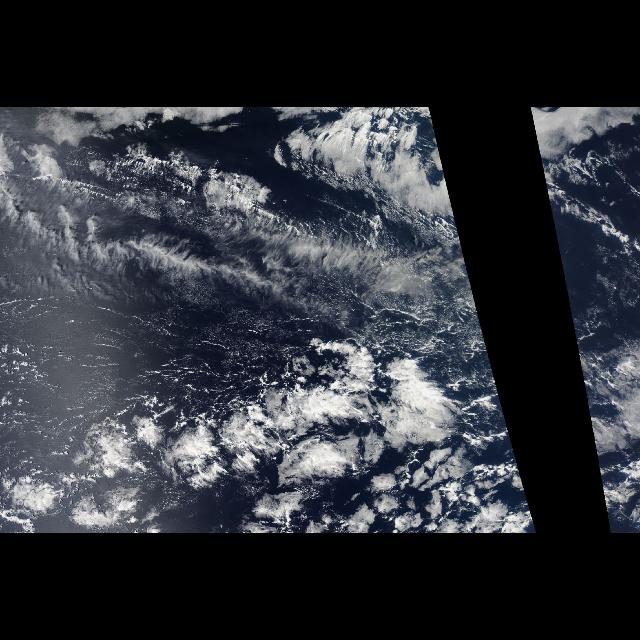Fish: (34, 134, 456, 360)
Flower: (62, 353, 538, 533)
Sugar: (4, 210, 486, 408)
